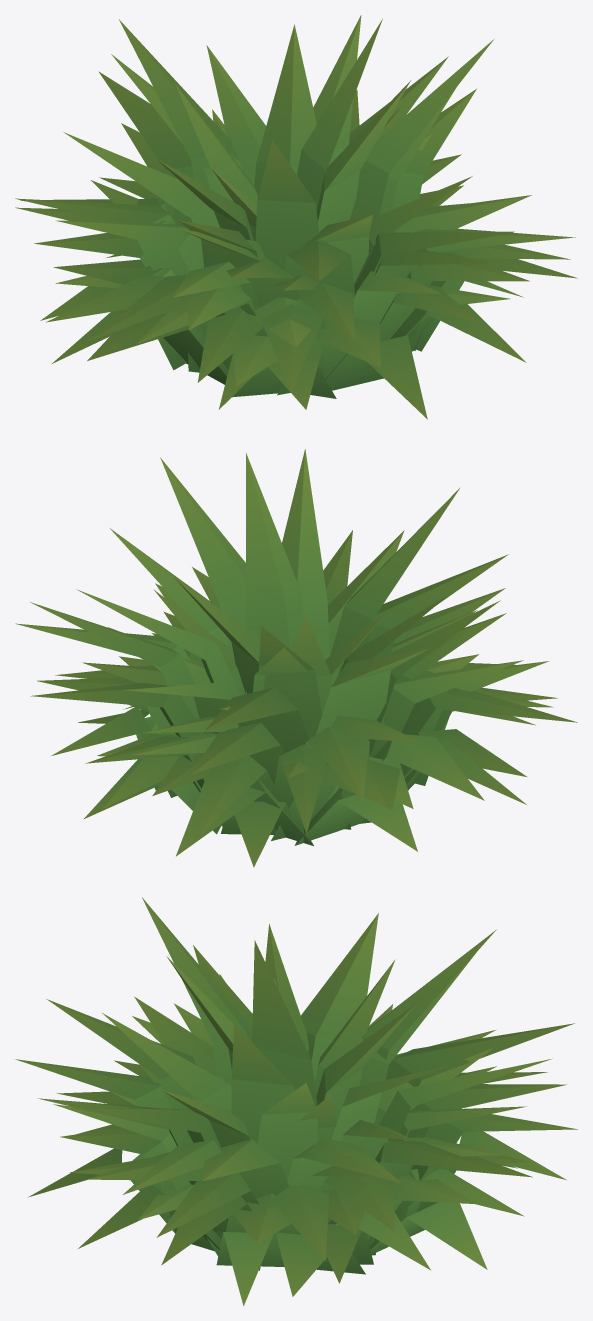
Rendered from lp-Bush_1.glb.
3 renders of one model, top to bottom at view 1: azimuth 30°, elevation 25°; view 2: azimuth 150°, elevation 25°; view 3: azimuth 270°, elevation 25°, orthographic. The views are drawn at different scales.
Visible parts, largest first — view 1: lp-Bush_1; view 2: lp-Bush_1; view 3: lp-Bush_1.
Boxes of the visible parts, x1,y1,x2,y2 form: lp-Bush_1: [15, 15, 577, 419]; lp-Bush_1: [15, 449, 577, 867]; lp-Bush_1: [15, 897, 577, 1306].
Bounding box in the file's own units: 2.41 × 1.52 × 2.45.
